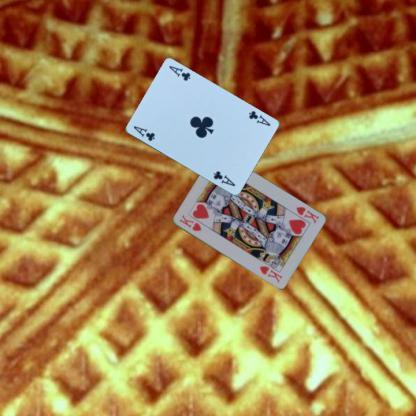Ac: (245, 108, 272, 128), (130, 123, 156, 142)
Kh: (293, 204, 320, 225), (176, 212, 202, 233)
